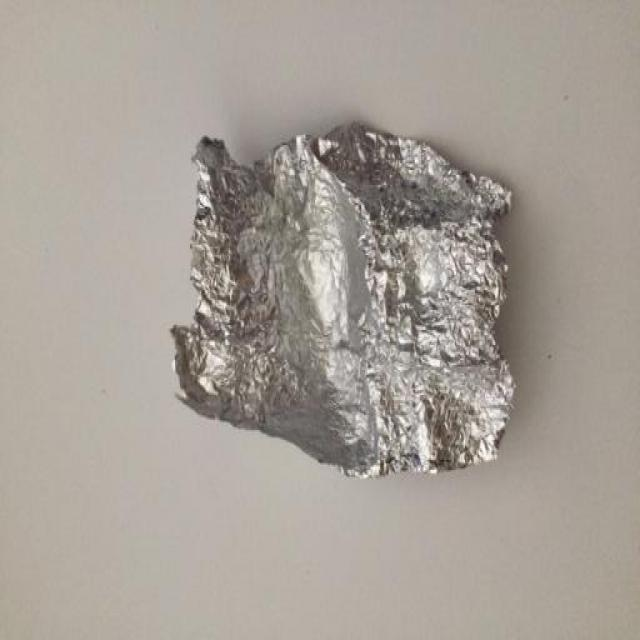others: (149, 111, 539, 513)
